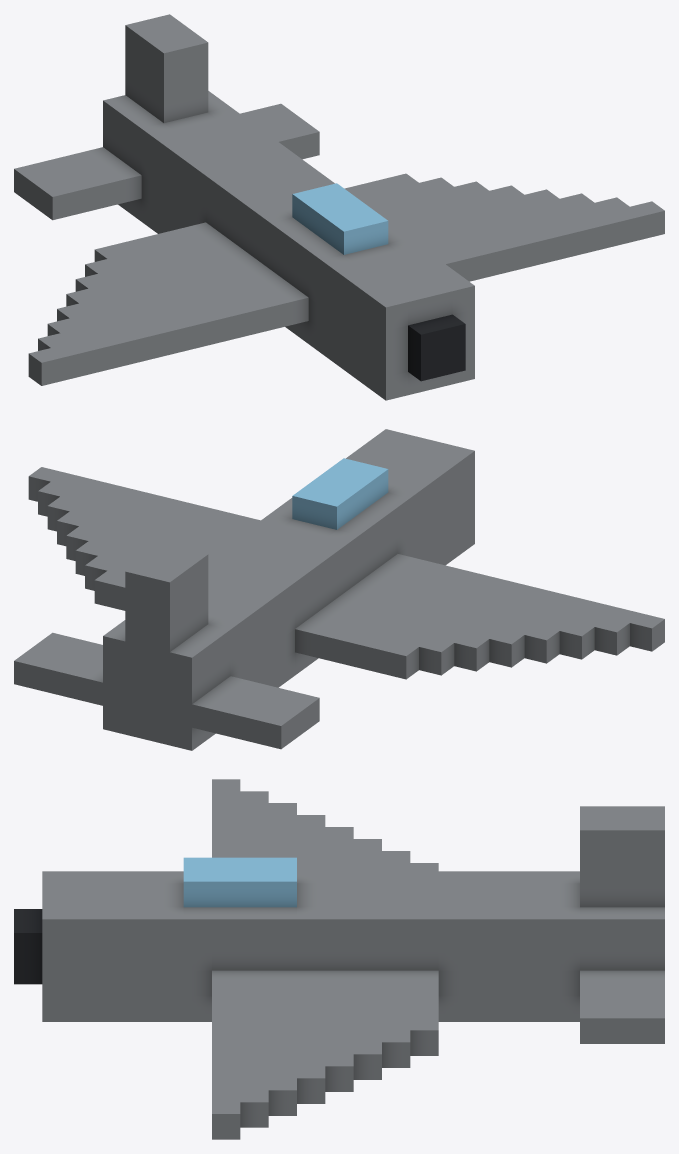
File: u_fighter.glb
3 renders of one model, top to bottom at view 1: azimuth 30°, elevation 25°; view 2: azimuth 150°, elevation 25°; view 3: azimuth 270°, elevation 25°, orthographic. The views are drawn at different scales.
Visible parts, largest first — view 1: u_fighter_body; view 2: u_fighter_body; view 3: u_fighter_body.
Part boxes in pixels (box(x1,y1,x2,y2)): u_fighter_body: box(14, 14, 664, 400); u_fighter_body: box(14, 429, 664, 750); u_fighter_body: box(14, 779, 664, 1139).
Size of the model in its own units: 1.75 by 0.4375 by 1.44.
Materials: 1 (1 with a texture image).
